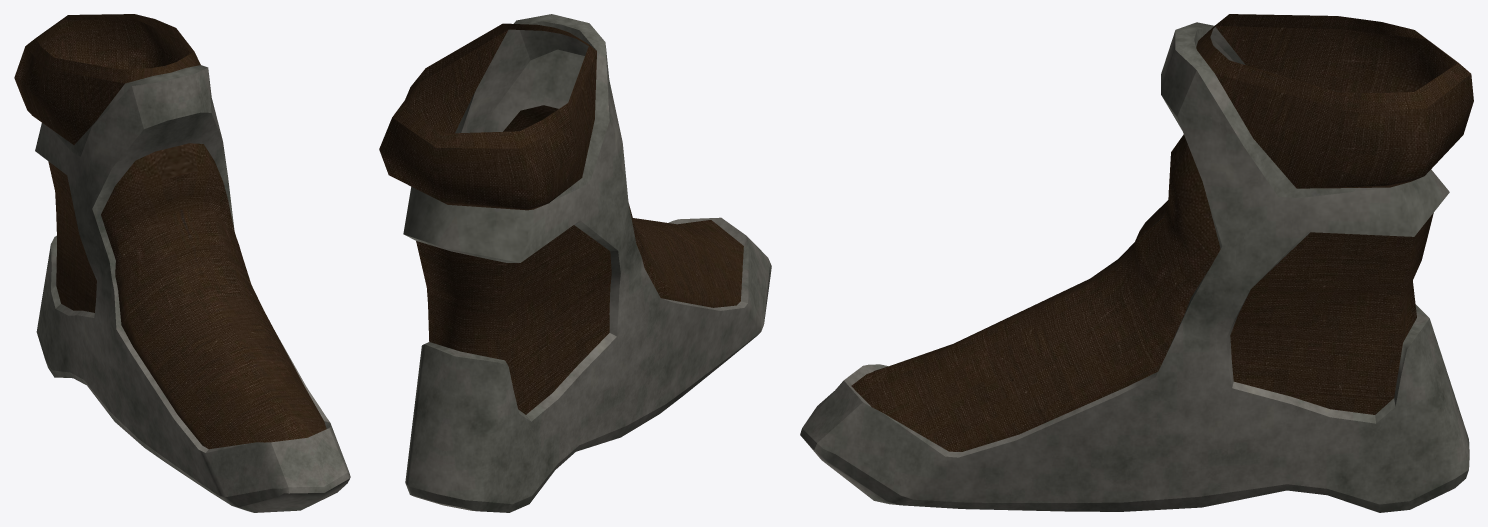
The model's file is shoes.glb.
3 renders of one model, left to right at view 1: azimuth 30°, elevation 25°; view 2: azimuth 150°, elevation 25°; view 3: azimuth 270°, elevation 25°, orthographic. The views are drawn at different scales.
Parts seen in each view (by area): view 1: shoes; view 2: shoes; view 3: shoes.
Part boxes in pixels (x1,y1,x2,y2): shoes: (14,14,350,512); shoes: (379,14,771,512); shoes: (800,14,1473,512).
Bounding box in the file's own units: 0.0844 × 0.1993 × 0.2703.
1 material, 1 textured.
